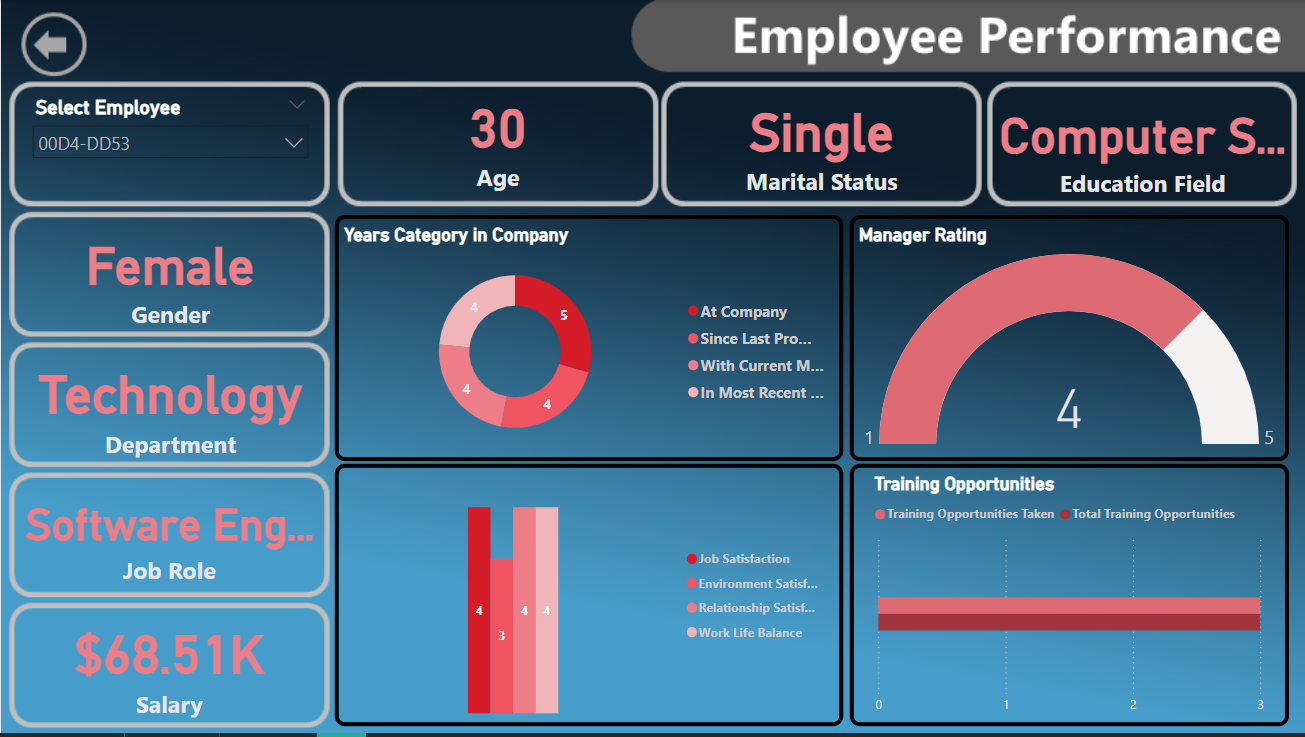

The dashboard page shown, as its layout file describes it:
{"tool":"powerbi","page":{"name":"Page 2","canvas":[1280,720],"ordinal":1},"visuals":[{"type":"slicer","fields":{"Values":["Employee.EmployeeID"]},"box":[20.6,89.2,290.9,105.7],"z":0},{"type":"card","fields":{"Values":["Employee.Dep_name"]},"box":[19.2,343.1,293.7,105.7],"z":1000},{"type":"card","fields":{"Values":["Employee.Job_role_measure"]},"box":[17.8,472,293.7,105.7],"z":2000},{"type":"card","fields":{"Values":["Employee.Salary_measure"]},"box":[17.8,598.3,293.7,105.7],"z":3000},{"type":"card","fields":{"Values":["Employee.Age_measure"]},"box":[341.7,70,293.7,129],"z":4000},{"type":"card","fields":{"Values":["Employee.Marital_status_measure"]},"box":[658.7,86.4,293.7,105.7],"z":5000},{"type":"card","fields":{"Values":["Employee.Edu_Field"]},"box":[978.4,89.2,285.4,105.7],"z":6000},{"type":"donutChart","title":"Years Category in Company","fields":{"Y":["Sum(Employee.YearsAtCompany)","Sum(Employee.YearsSinceLastPromotion)","Sum(Employee.YearsWithCurrManager)","Sum(Employee.YearsInMostRecentRole)"]},"box":[328,211.3,499.5,241.5],"z":7000},{"type":"clusteredColumnChart","fields":{"Category":["PerformanceRating.EmployeeID"],"Y":["Count(PerformanceRating.JobSatisfaction)","Count(PerformanceRating.EnvironmentSatisfaction)","Count(PerformanceRating.RelationshipSatisfaction)","Count(PerformanceRating.WorkLifeBalance)"]},"box":[328,455.6,499.5,258],"z":8000},{"type":"gauge","title":"Manager Rating","fields":{"Y":["Count(PerformanceRating.ManagerRating)"],"MinValue":["Min(RatingLevel.RatingID)"],"MaxValue":["Max(RatingLevel.RatingID)1"]},"box":[832.9,211.3,430.9,241.5],"z":9000},{"type":"clusteredBarChart","title":"Training Opportunities ","fields":{"Category":["PerformanceRating.EmployeeID"],"Y":["Count(PerformanceRating.TrainingOpportunitiesTaken)","Count(PerformanceRating.TrainingOpportunitiesWithinYear)"]},"box":[832.9,455.6,430.9,258],"z":10000},{"type":"card","fields":{"Values":["Employee.Gender_measure"]},"box":[19.2,216.8,293.7,105.7],"z":11000},{"type":"actionButton","box":[18.4,9.8,67.5,60.1],"z":12000}]}

Visuals, with their boxes in screenshot pixels (x1, y1, x2, y2), scaled from the page's 1280x720 canvas onto the 1305x737 screenshot:
slicer - Employee.EmployeeID: crop(21, 91, 318, 200)
card - Employee.Dep_name: crop(20, 351, 319, 459)
card - Employee.Job_role_measure: crop(18, 483, 318, 591)
card - Employee.Salary_measure: crop(18, 612, 318, 721)
card - Employee.Age_measure: crop(348, 72, 648, 204)
card - Employee.Marital_status_measure: crop(672, 88, 971, 197)
card - Employee.Edu_Field: crop(998, 91, 1288, 200)
"Years Category in Company" donutChart: crop(334, 216, 844, 463)
clusteredColumnChart - PerformanceRating.EmployeeID x Count(PerformanceRating.JobSatisfaction): crop(334, 466, 844, 730)
"Manager Rating" gauge: crop(849, 216, 1288, 463)
"Training Opportunities " clusteredBarChart: crop(849, 466, 1288, 730)
card - Employee.Gender_measure: crop(20, 222, 319, 330)
actionButton: crop(19, 10, 88, 72)
